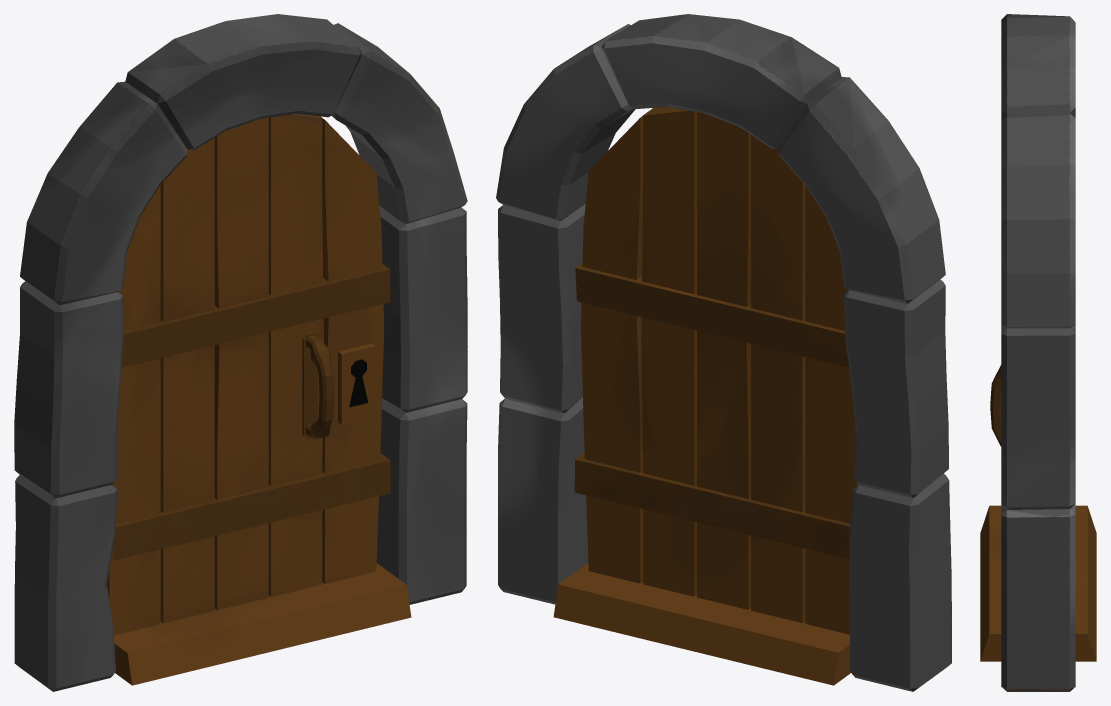
Rendered from Door.fbx.
The picture shows the model from 3 angles, left to right: view 1: azimuth 30°, elevation 25°; view 2: azimuth 150°, elevation 25°; view 3: azimuth 270°, elevation 25°; orthographic projection. The views are drawn at different scales.
Visible parts, largest first — view 1: Door; view 2: Door; view 3: Door.
Part boxes in pixels (left/top/right/bottom): Door: left=14, top=14, right=467, bottom=691; Door: left=496, top=14, right=951, bottom=691; Door: left=980, top=14, right=1096, bottom=691.
Size of the model in its own units: 151 by 204 by 38.18.
1 material, 1 textured.
